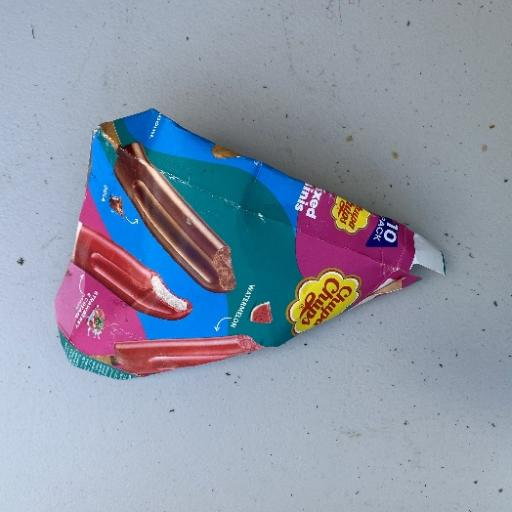Cardboard: (53, 107, 447, 380)
